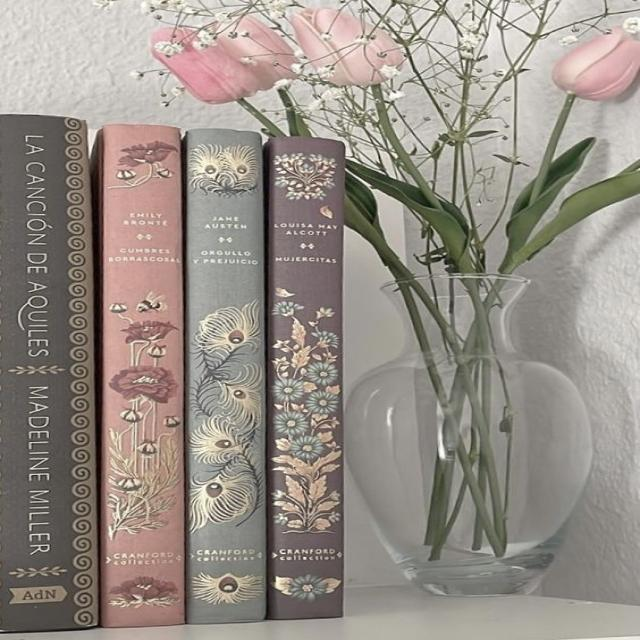book: (0, 114, 98, 632), (98, 124, 185, 626), (186, 129, 266, 623), (266, 137, 344, 618)
flowers: (142, 0, 639, 349)
